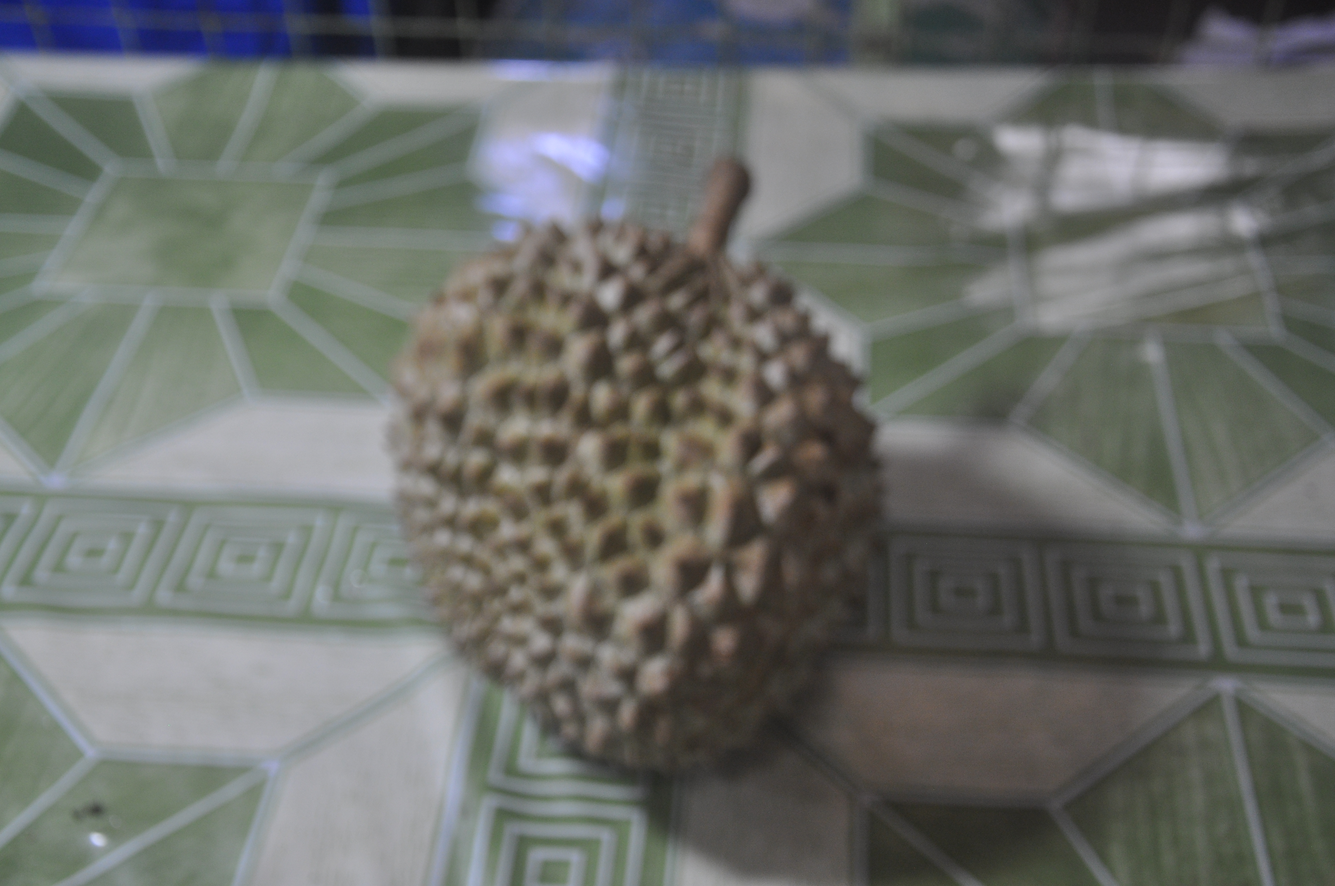mature: (389, 159, 887, 772)
